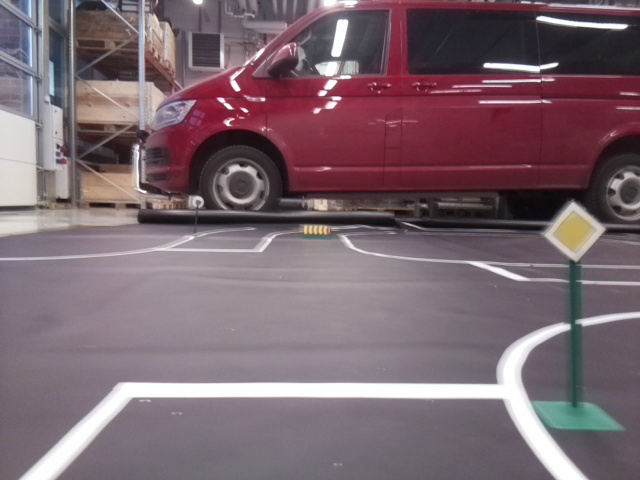Priority: (540, 199, 606, 259)
